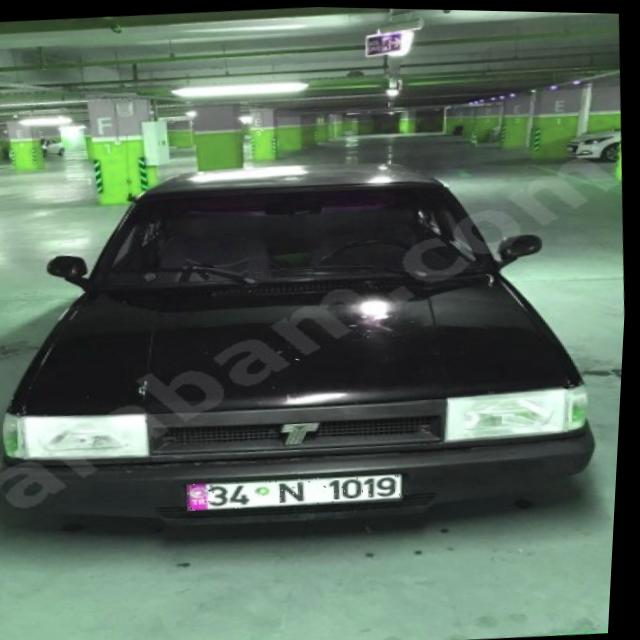license_plate: (190, 468, 408, 513)
